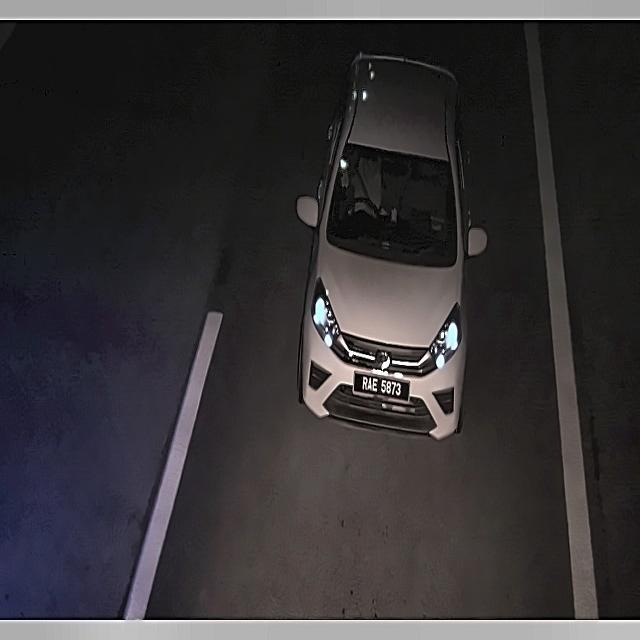car: (351, 366, 416, 405)
